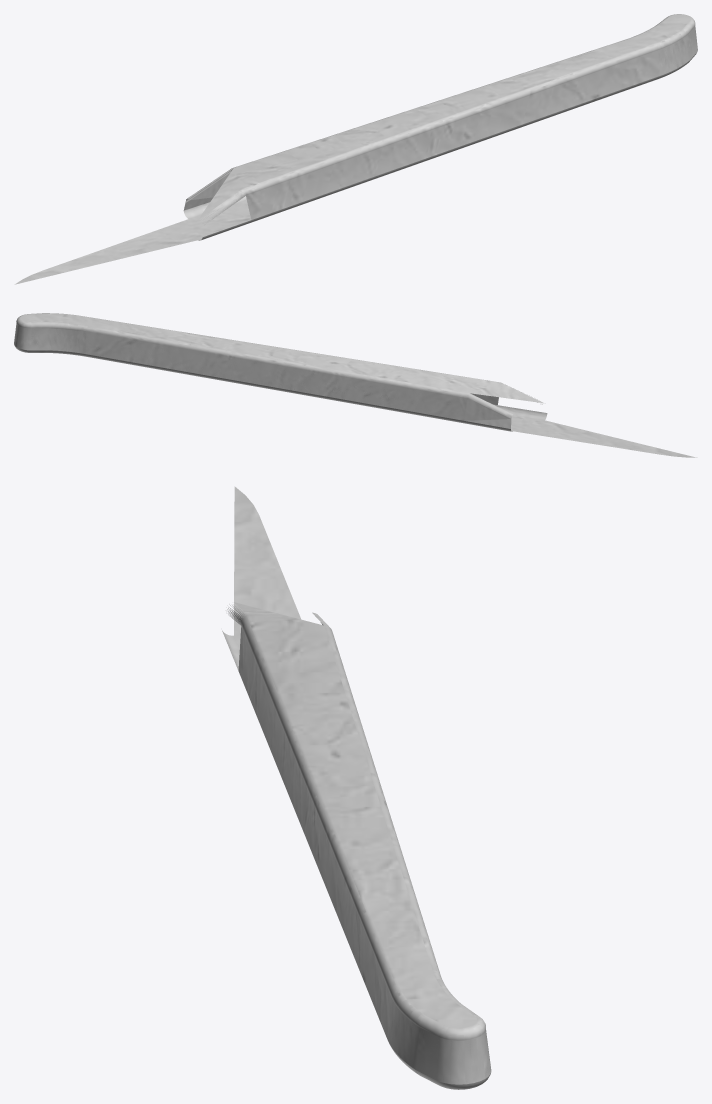
3 renders of one model, top to bottom at view 1: azimuth 30°, elevation 25°; view 2: azimuth 150°, elevation 25°; view 3: azimuth 270°, elevation 25°, orthographic. The views are drawn at different scales.
Size of the model in its own units: 1.31 by 0.0634 by 0.2457.
